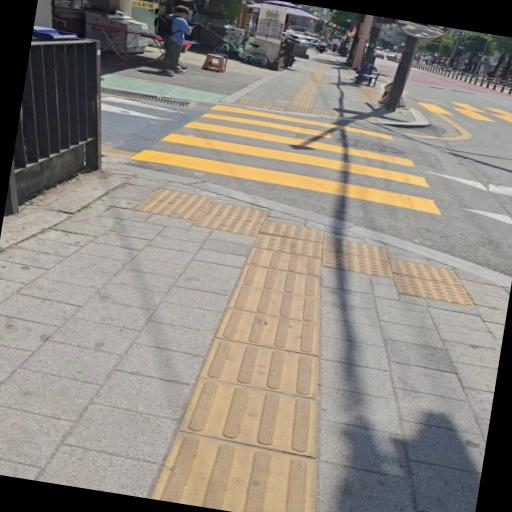yellow-crosswalk: (118, 78, 469, 226), (385, 84, 512, 139)
